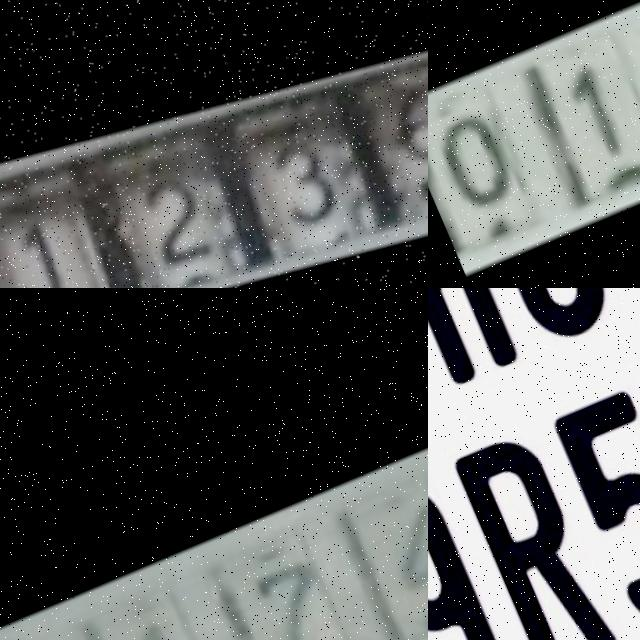0: (428, 98, 524, 222)
1: (535, 44, 640, 173), (0, 195, 101, 288), (116, 603, 216, 640)
2: (111, 152, 234, 288)
3: (239, 109, 358, 240)
4: (366, 487, 428, 615)
5: (545, 383, 640, 640)
6: (360, 56, 428, 179)
7: (237, 545, 348, 640)
8: (444, 288, 626, 355)
9: (428, 462, 525, 640)
H: (428, 288, 527, 391)
R: (449, 421, 626, 640)
